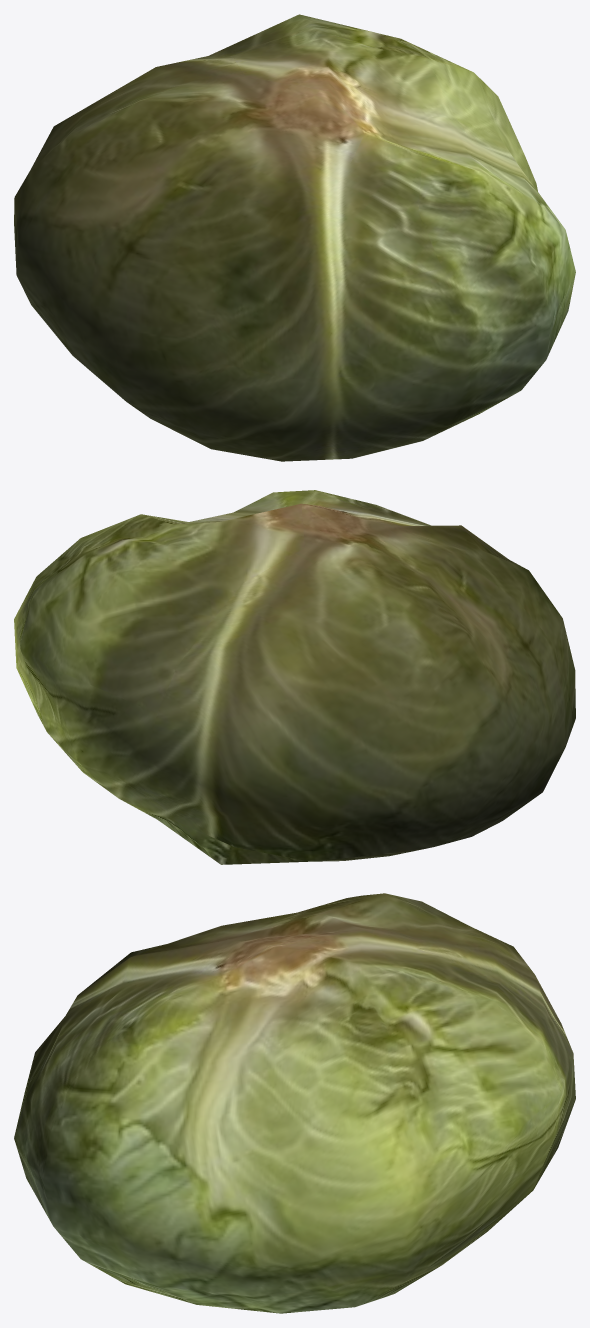
The model's file is A91_Cabbage_low.fbx.
The picture shows the model from 3 angles, top to bottom: view 1: azimuth 30°, elevation 25°; view 2: azimuth 150°, elevation 25°; view 3: azimuth 270°, elevation 25°; orthographic projection. The views are drawn at different scales.
Parts seen in each view (by area): view 1: A91_Cabbage_low; view 2: A91_Cabbage_low; view 3: A91_Cabbage_low.
Part boxes in pixels (left/top/right/bottom): A91_Cabbage_low: left=14, top=14, right=575, bottom=461; A91_Cabbage_low: left=14, top=490, right=575, bottom=864; A91_Cabbage_low: left=14, top=893, right=575, bottom=1313.
Size of the model in its own units: 26.81 by 26.07 by 16.79.
Materials: 1 (1 with a texture image).
